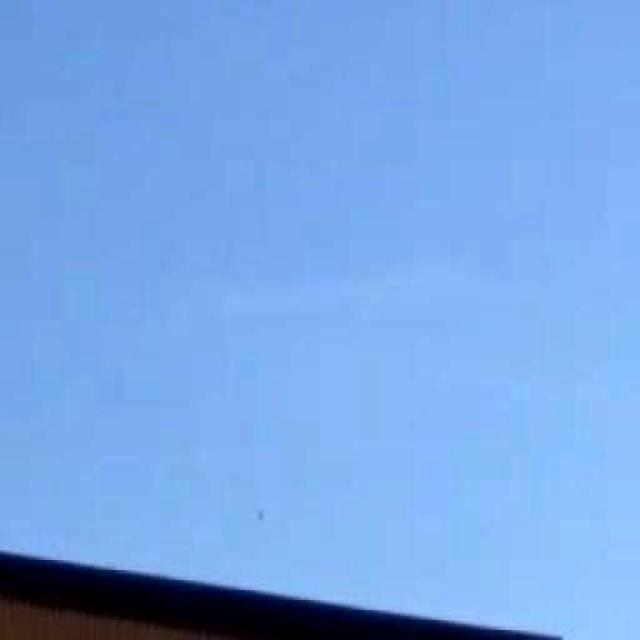drone: (232, 475, 290, 555)
